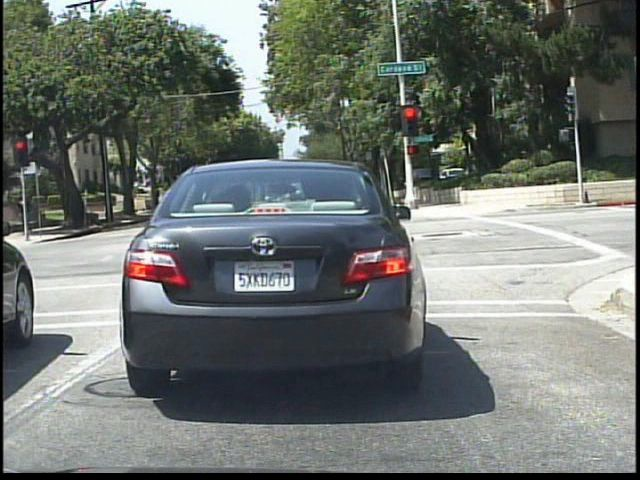person: (15, 187, 35, 239)
